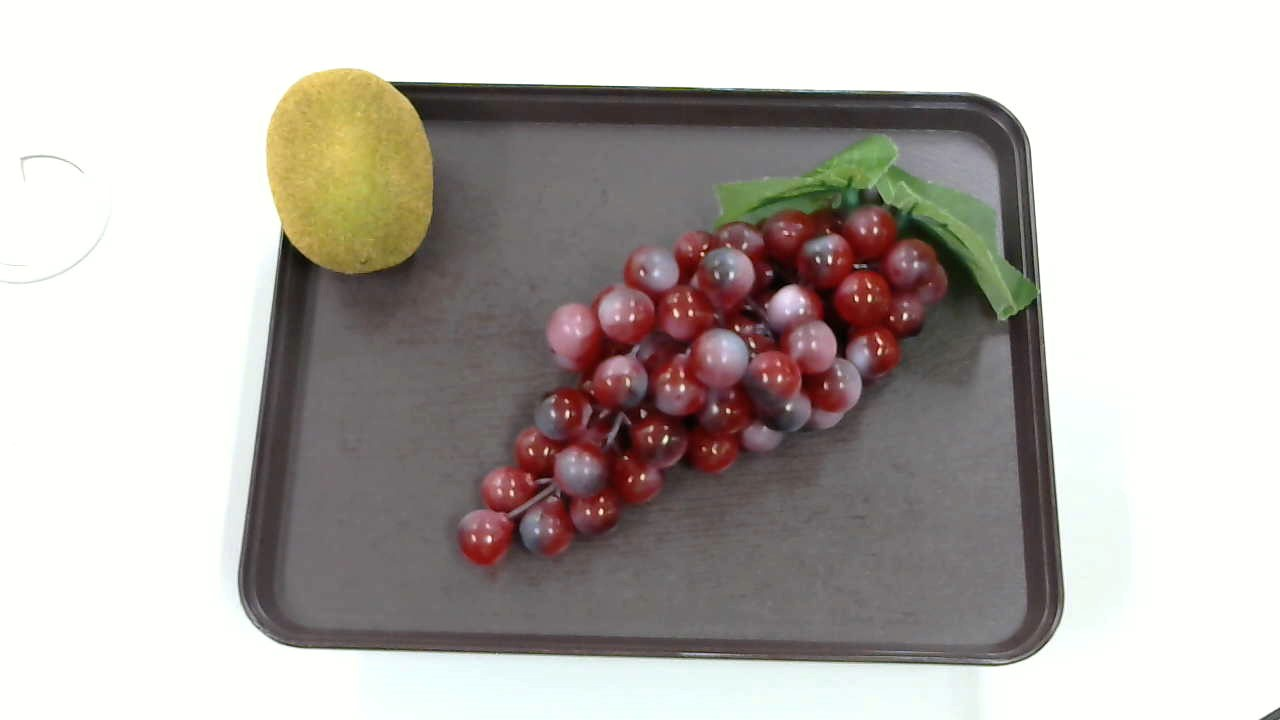grape: (454, 130, 1040, 563)
kiwi fruit: (268, 71, 434, 273)
